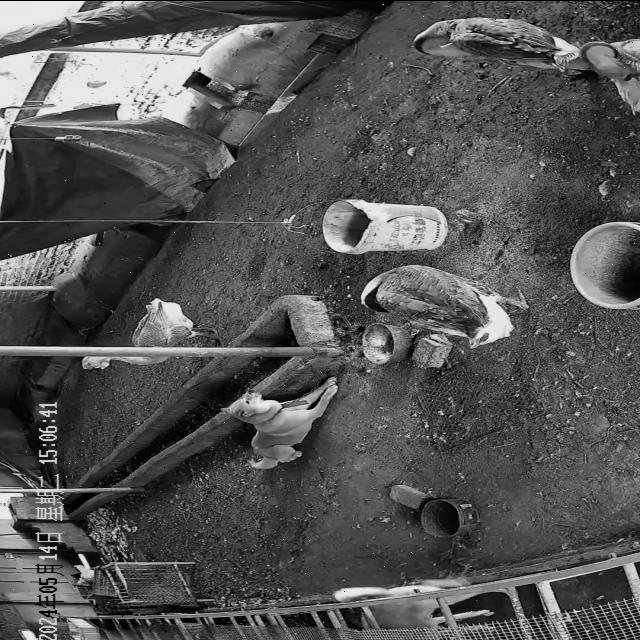dog: (221, 376, 341, 470), (334, 577, 510, 631)
